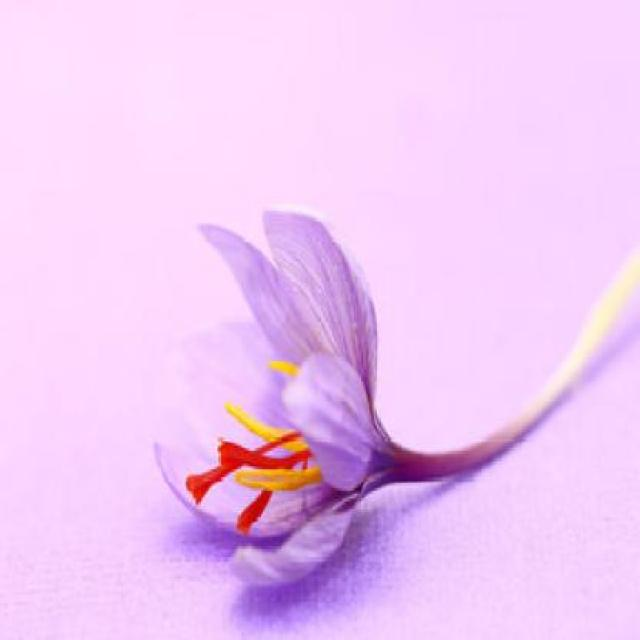Flower: (148, 191, 424, 594)
stigma: (184, 430, 300, 506), (214, 438, 318, 474), (231, 484, 272, 538)
